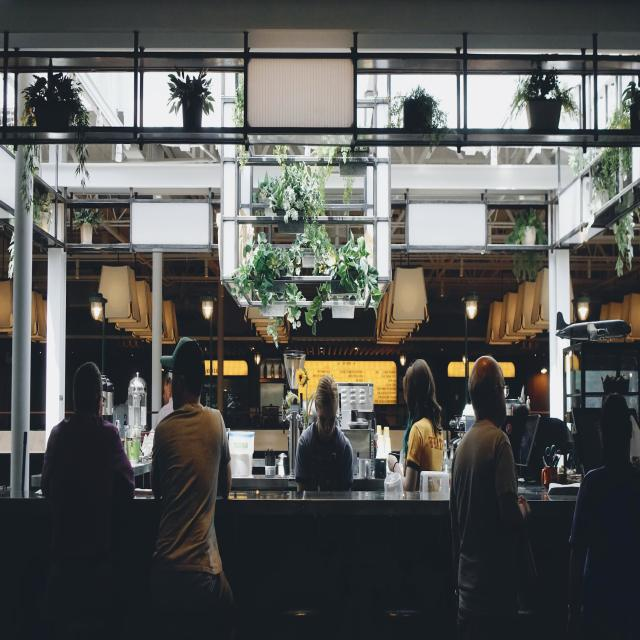adult: (40, 363, 134, 640), (150, 335, 234, 640), (451, 357, 539, 640), (569, 392, 640, 640), (387, 360, 444, 490), (296, 376, 354, 491)
